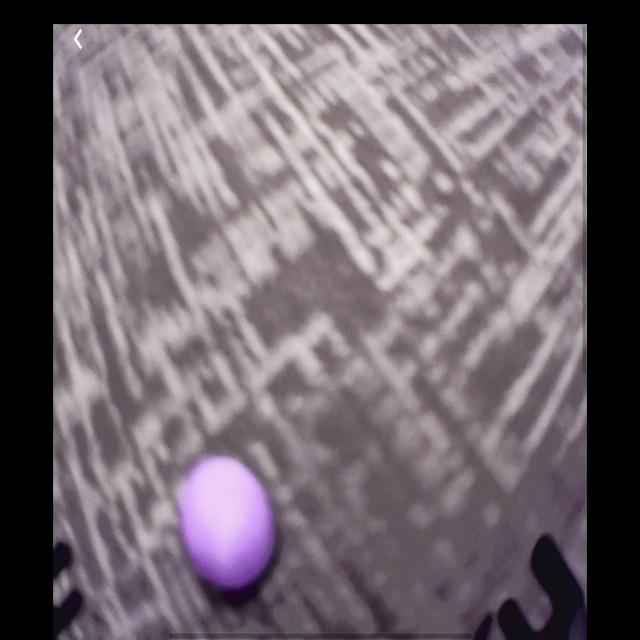ball: (181, 457, 276, 594)
